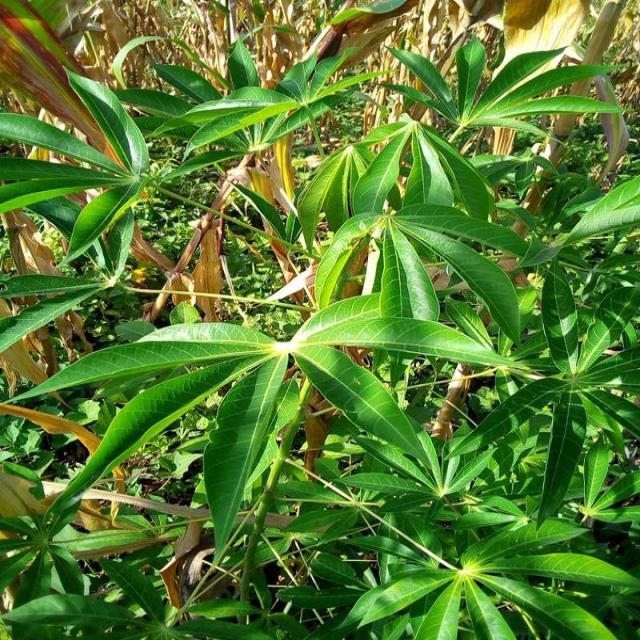cassava leaf: (1, 4, 636, 637)
